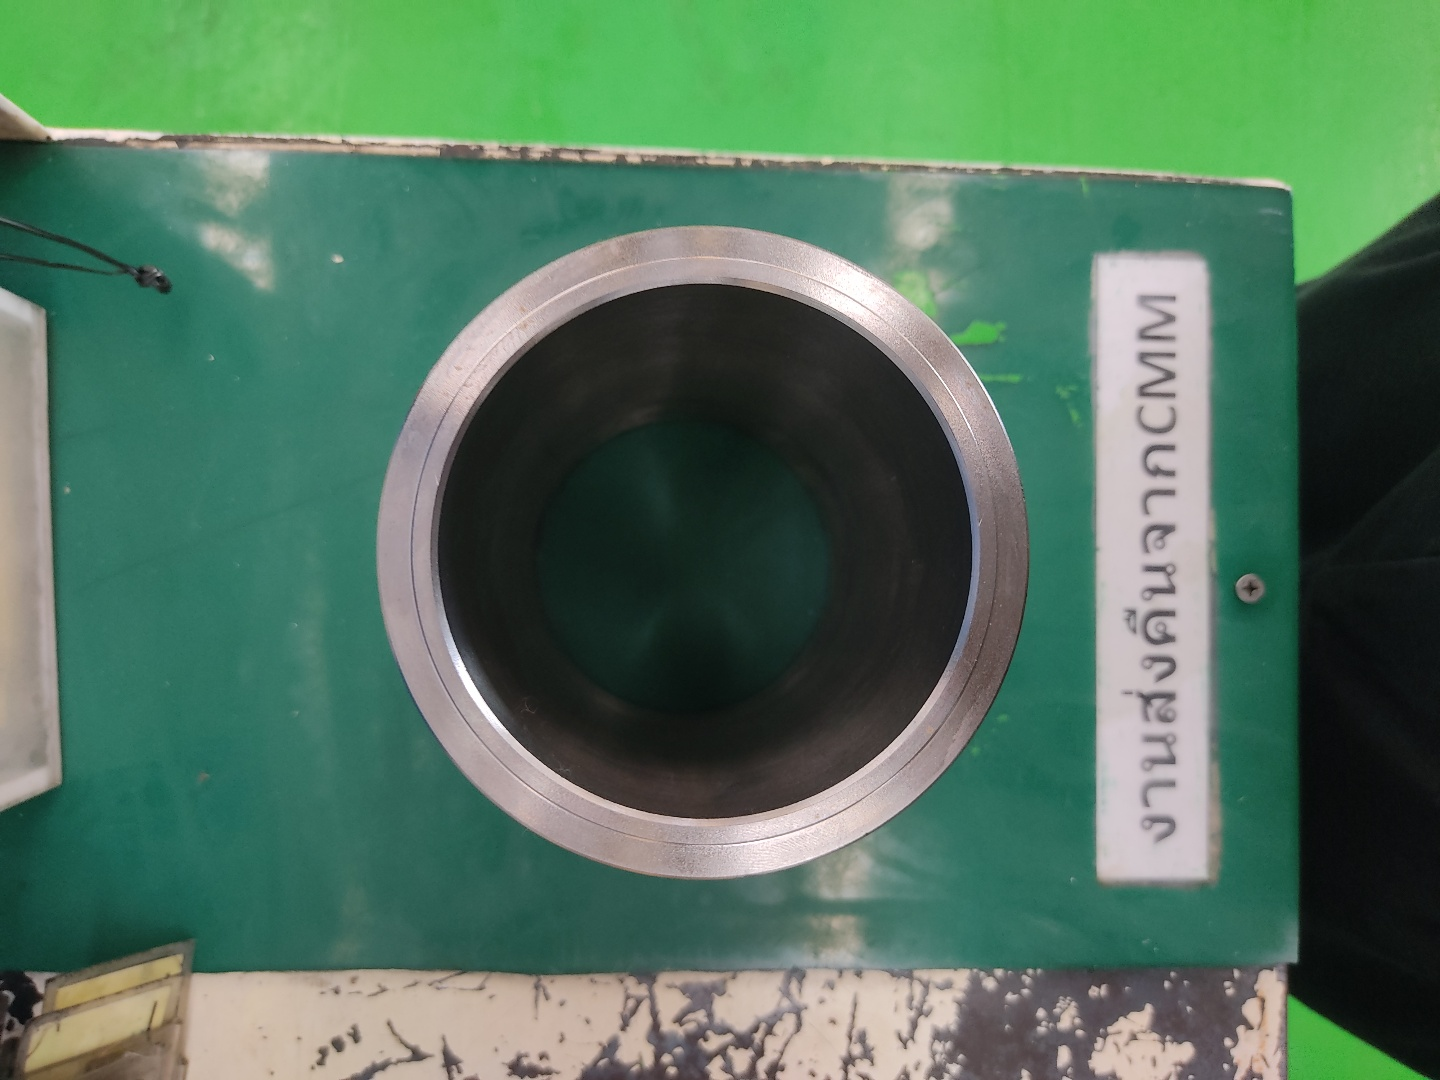cylinder: (374, 223, 1032, 884)
